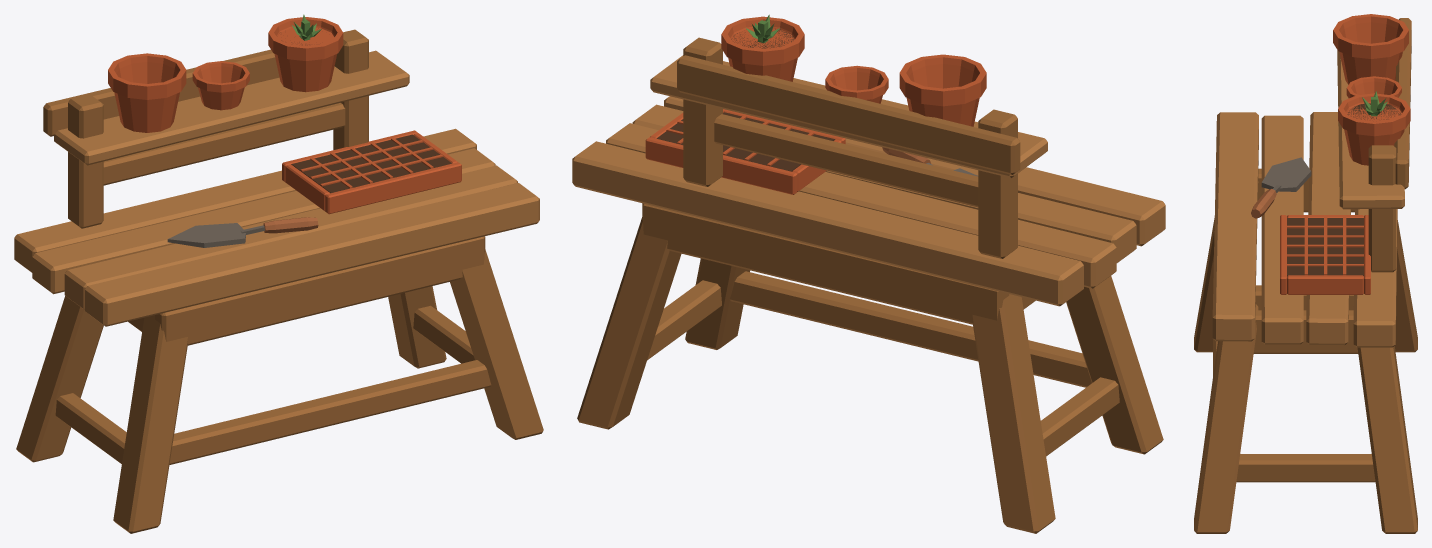
The picture shows the model from 3 angles, left to right: view 1: azimuth 30°, elevation 25°; view 2: azimuth 150°, elevation 25°; view 3: azimuth 270°, elevation 25°; orthographic projection. The views are drawn at different scales.
Visible parts, largest first — view 1: frame, top, pots, shelf, seed_tray, soil, trowel_blade, trowel_handle; view 2: frame, top, pots, seed_tray, shelf, soil; view 3: frame, top, pots, seed_tray, soil, shelf, trowel_blade, trowel_handle, succulent.
Part boxes in pixels (x1,y1,x2,y2): frame: (16, 29, 543, 533); top: (14, 128, 539, 326); pots: (108, 17, 343, 132); shelf: (54, 50, 409, 165); seed_tray: (282, 130, 461, 214); soil: (280, 28, 451, 193); trowel_blade: (167, 223, 264, 247); trowel_handle: (263, 217, 318, 233); frame: (577, 37, 1163, 533); top: (572, 96, 1165, 306); pots: (721, 16, 986, 126); seed_tray: (645, 109, 845, 194); shelf: (650, 55, 1047, 178); soil: (656, 28, 835, 171); frame: (1194, 18, 1417, 533); top: (1212, 112, 1397, 347); pots: (1333, 14, 1410, 165); seed_tray: (1280, 215, 1370, 294); soil: (1287, 103, 1401, 275); shelf: (1337, 50, 1404, 209); trowel_blade: (1261, 157, 1311, 192); trowel_handle: (1251, 189, 1276, 218); succulent: (1362, 91, 1387, 116).
Bounding box in the file's own units: 1.54 × 1.25 × 0.6873.
